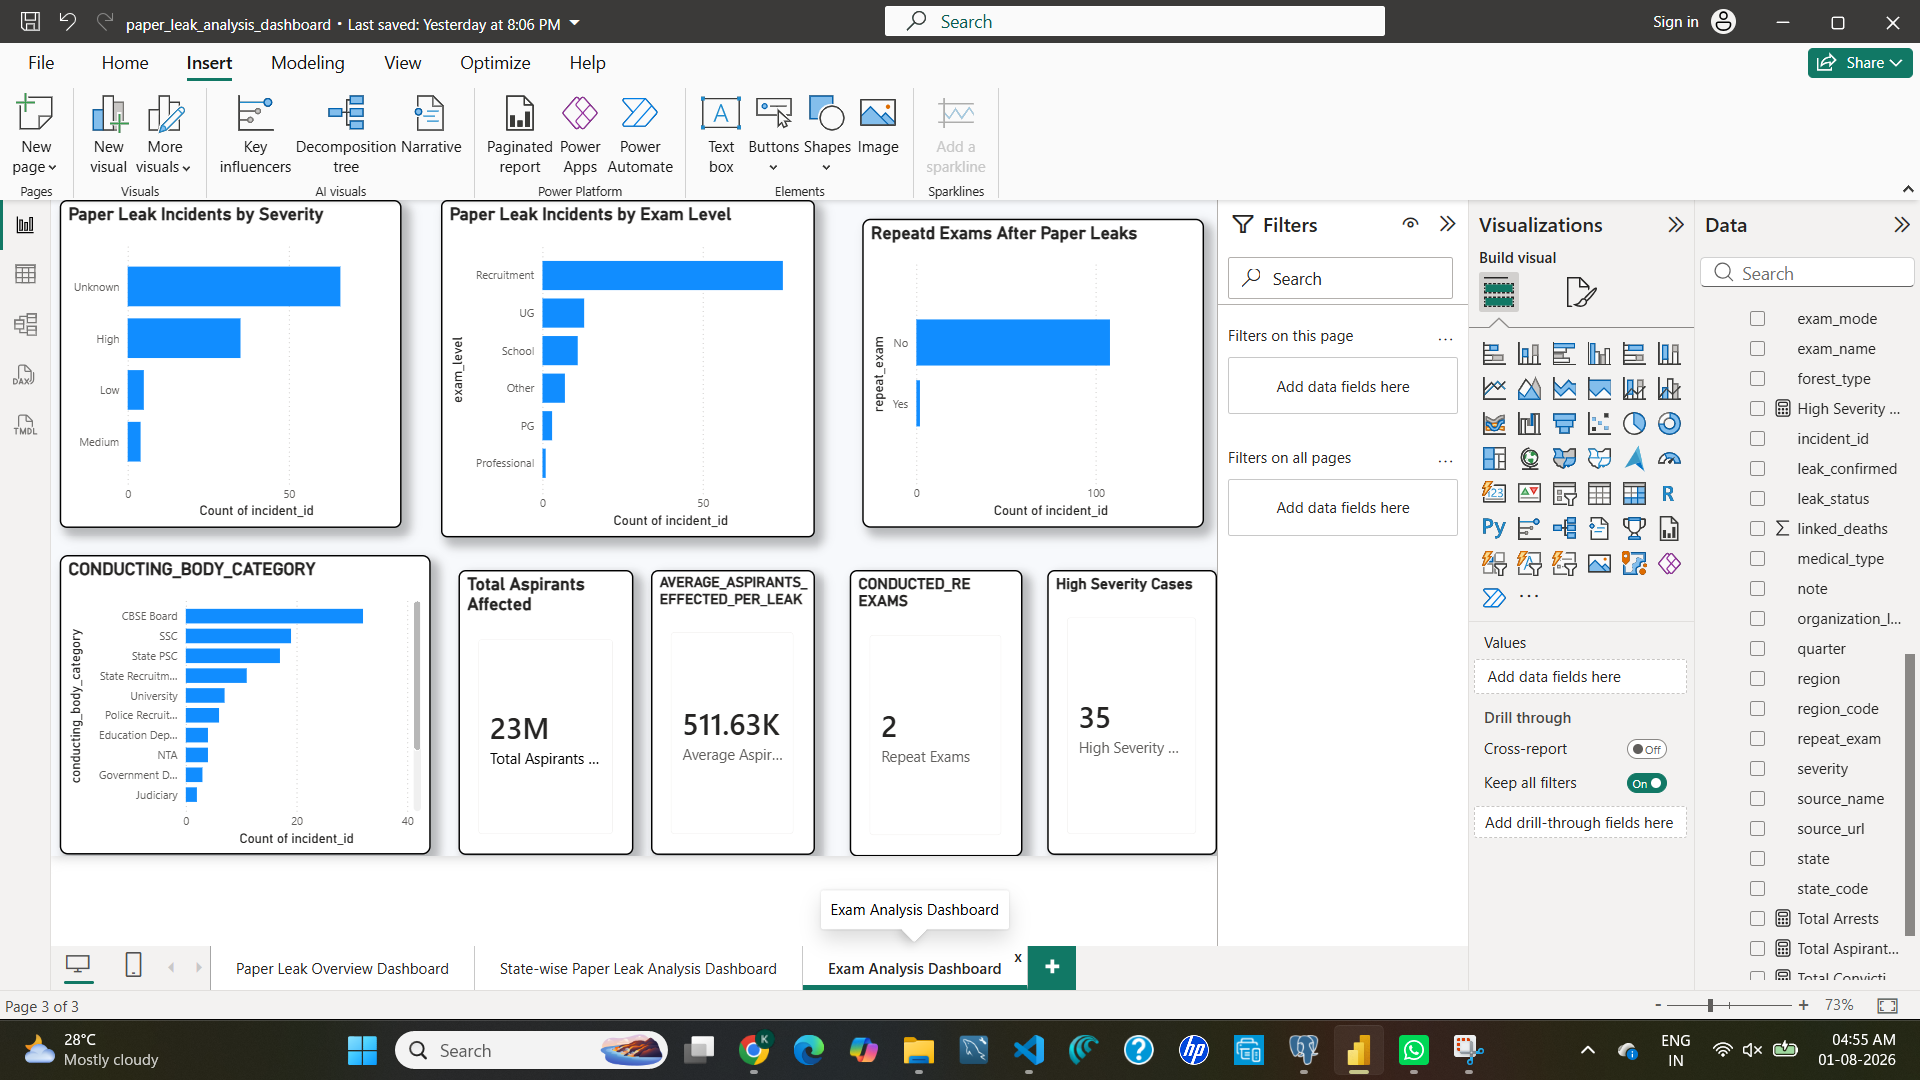

What the dashboard file says about the page in this screenshot:
{"tool":"powerbi","page":{"name":"Exam Analysis Dashboard","canvas":[1280,720],"ordinal":2},"visuals":[{"type":"clusteredBarChart","title":"Paper Leak Incidents by Severity","fields":{"Category":["paper_leaks_cleaned.severity"],"Y":["CountNonNull(paper_leaks_cleaned.incident_id)"]},"box":[9.7,0,375,359.7],"z":0},{"type":"clusteredBarChart","title":"Paper Leak Incidents by Exam Level","fields":{"Y":["CountNonNull(paper_leaks_cleaned.incident_id)"],"Category":["paper_leaks_cleaned.exam_level"]},"box":[428.1,0,410.3,370.5],"z":1000},{"type":"clusteredBarChart","title":"Repeatd  Exams After Paper Leaks","fields":{"Category":["paper_leaks_cleaned.repeat_exam"],"Y":["CountNonNull(paper_leaks_cleaned.incident_id)"]},"box":[890.6,20.6,375,338.9],"z":2000},{"type":"clusteredBarChart","title":"CONDUCTING_BODY_CATEGORY","fields":{"Category":["paper_leaks_cleaned.conducting_body_category"],"Y":["CountNonNull(paper_leaks_cleaned.incident_id)"]},"box":[9.7,390.3,406.9,329.2],"z":3000},{"type":"cardVisual","title":"Total Aspirants Affected","fields":{"Data":["paper_leaks_cleaned.Total Aspirants Affected"]},"box":[447.3,406.2,192.1,312.9],"z":4000},{"type":"cardVisual","title":"AVERAGE_ASPIRANTS_EFFECTED_PER_LEAK","fields":{"Data":["paper_leaks_cleaned.Average Aspirants Affected"]},"box":[658.7,406.2,179.8,312.9],"z":5000},{"type":"cardVisual","title":"CONDUCTED_RE EXAMS","fields":{"Data":["Measures (2).Repeat Exams"]},"box":[876.8,406.2,189.4,314.2],"z":6000},{"type":"cardVisual","title":"High Severity Cases","fields":{"Data":["paper_leaks_cleaned.High Severity Cases"]},"box":[1093.7,406.2,186.6,312.9],"z":7000}]}

Visuals, with their boxes on the page's 1280x720 design canvas (x1, y1, x2, y2). These are canvas units, not pixel positions in the 1920x1080 screenshot, which may show the page scaled, cropped or inside an application window:
"Paper Leak Incidents by Severity" clusteredBarChart: select_region(10, 0, 385, 360)
"Paper Leak Incidents by Exam Level" clusteredBarChart: select_region(428, 0, 838, 370)
"Repeatd  Exams After Paper Leaks" clusteredBarChart: select_region(891, 21, 1266, 360)
"CONDUCTING_BODY_CATEGORY" clusteredBarChart: select_region(10, 390, 417, 720)
"Total Aspirants Affected" cardVisual: select_region(447, 406, 639, 719)
"AVERAGE_ASPIRANTS_EFFECTED_PER_LEAK" cardVisual: select_region(659, 406, 838, 719)
"CONDUCTED_RE EXAMS" cardVisual: select_region(877, 406, 1066, 720)
"High Severity Cases" cardVisual: select_region(1094, 406, 1280, 719)
